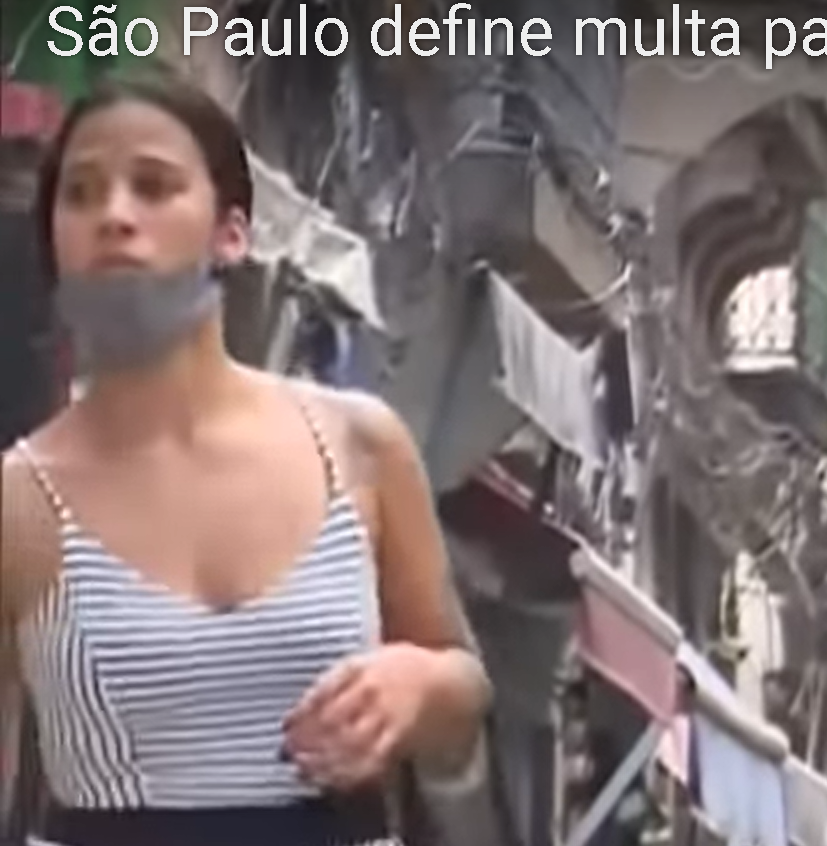mask_weared_incorrect: (32, 70, 264, 392)
